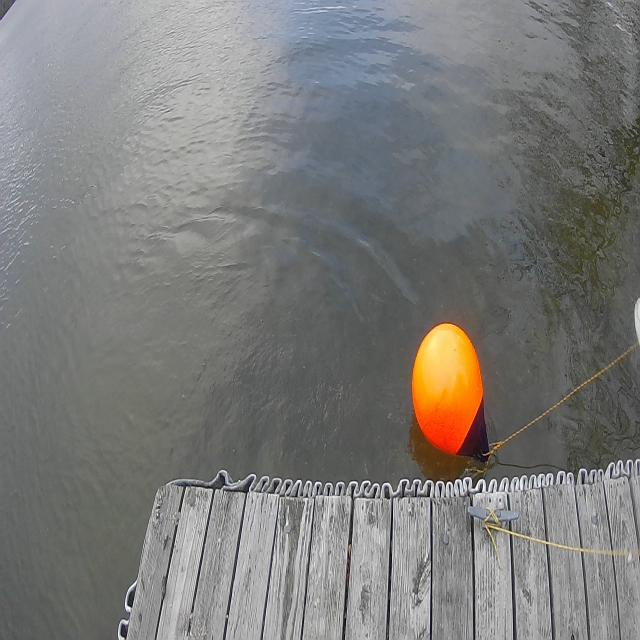Buoy: (405, 314, 497, 472)
